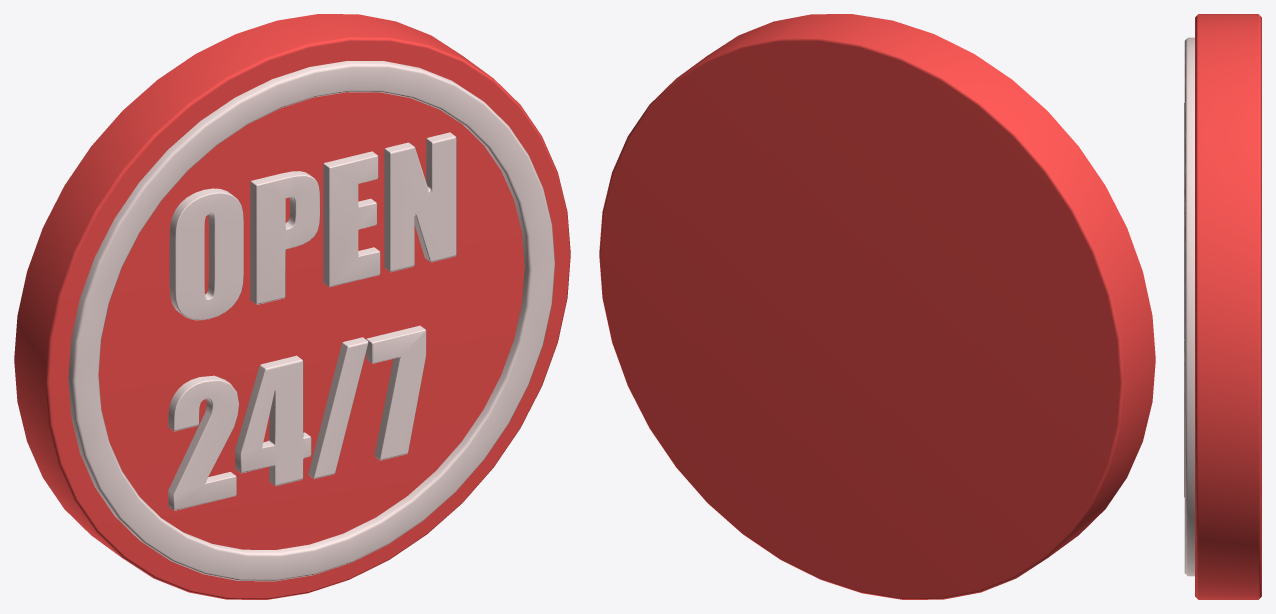
Rendered from City_2_Open_Sign_1.glb.
3 renders of one model, left to right at view 1: azimuth 30°, elevation 25°; view 2: azimuth 150°, elevation 25°; view 3: azimuth 270°, elevation 25°, orthographic. The views are drawn at different scales.
Parts seen in each view (by area): view 1: City_2_Open_Sign_1; view 2: City_2_Open_Sign_1; view 3: City_2_Open_Sign_1.
Boxes of the visible parts, x1=… form: City_2_Open_Sign_1: x1=14, y1=14, x2=570, y2=599; City_2_Open_Sign_1: x1=599, y1=14, x2=1155, y2=599; City_2_Open_Sign_1: x1=1184, y1=14, x2=1261, y2=599.
Bounding box in the file's own units: 0.5325 × 0.5325 × 0.0707.
Materials: 1 (1 with a texture image).
